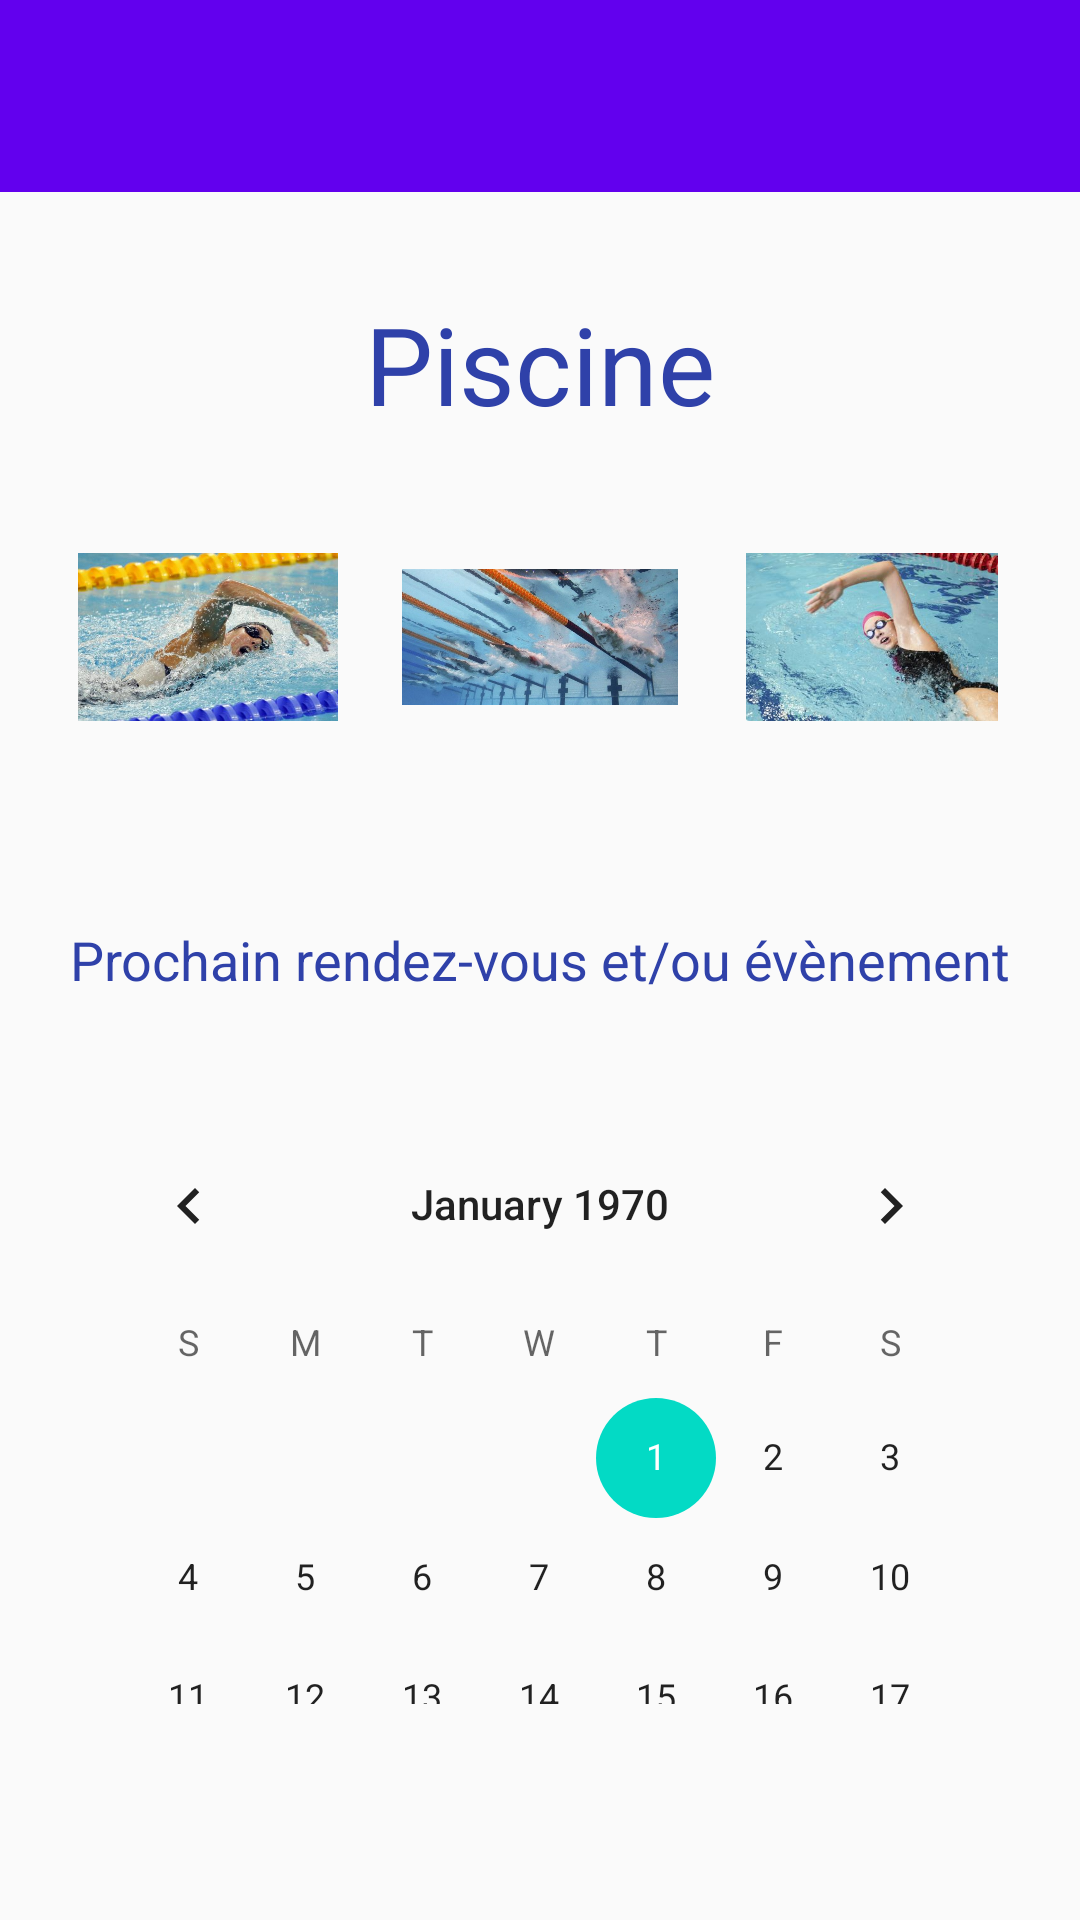

Named icons in this screenshot (1080 x 1920) and their bounding boxes, (x1, y1, x2, y2):
natation: (78, 553, 338, 721), (746, 553, 998, 721), (402, 569, 678, 705)
